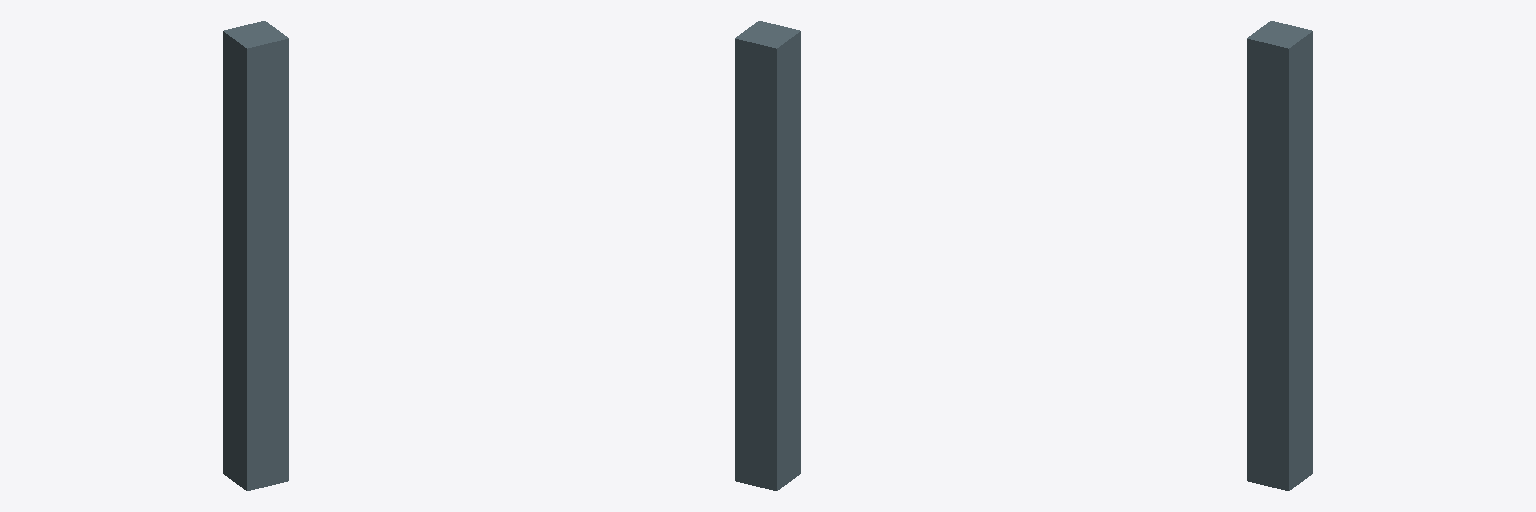
The robot description file, URDF, robot "box":
<?xml version="1.0"?>
<robot name="box">
<link name="world"/>
  <joint name="fixed" type="fixed">
    <parent link="world"/>
    <child link="box"/>
  </joint>
  <link name="box">
    <inertial>
     <origin
        xyz="0 0 0"
        rpy="0 0 0" />
      <mass value="1"/>
      <!-- Inertia values were calculated to be consistent with the mass and
           geometry size, assuming a uniform density. -->
      <inertia ixx="0.0108" ixy="0" ixz="0" iyy="0.0083" iyz="0" izz="0.0042"/>
    </inertial>
    <visual>
        <origin
        xyz="0 0 0"
        rpy="0 0 0" />
      <geometry>
        <box size=".1 .1 1"/>
      </geometry>
      <material name="red">
           <color rgba="0.4196078431372549 0.48627450980392156 0.5215686274509804 1.0"/>
      </material>
    </visual>
    <collision name="box">
      <geometry>
        <box size=".1 .1 1"/>
      </geometry>
    </collision>
  </link>
</robot>

--- What the picture shows (computed from the rendered views, not written in the file) ---
The picture shows the robot from 3 angles, left to right: view 1: azimuth 30°, elevation 25°; view 2: azimuth 150°, elevation 25°; view 3: azimuth 330°, elevation 25°; orthographic projection.
Model box with 2 links and 1 joints (1 fixed), rooted at world, posed every joint at zero.
Visible links, largest first — view 1: box; view 2: box; view 3: box.
Boxes of the visible links, left/top/right/bottom form: box: left=223, top=21, right=288, bottom=490; box: left=735, top=21, right=800, bottom=490; box: left=1247, top=21, right=1312, bottom=490.
Bounding box of the posed robot: 0.1 × 0.1 × 1 m (x, y, z).
Geometry: primitives only (box / cylinder / sphere), no mesh files.